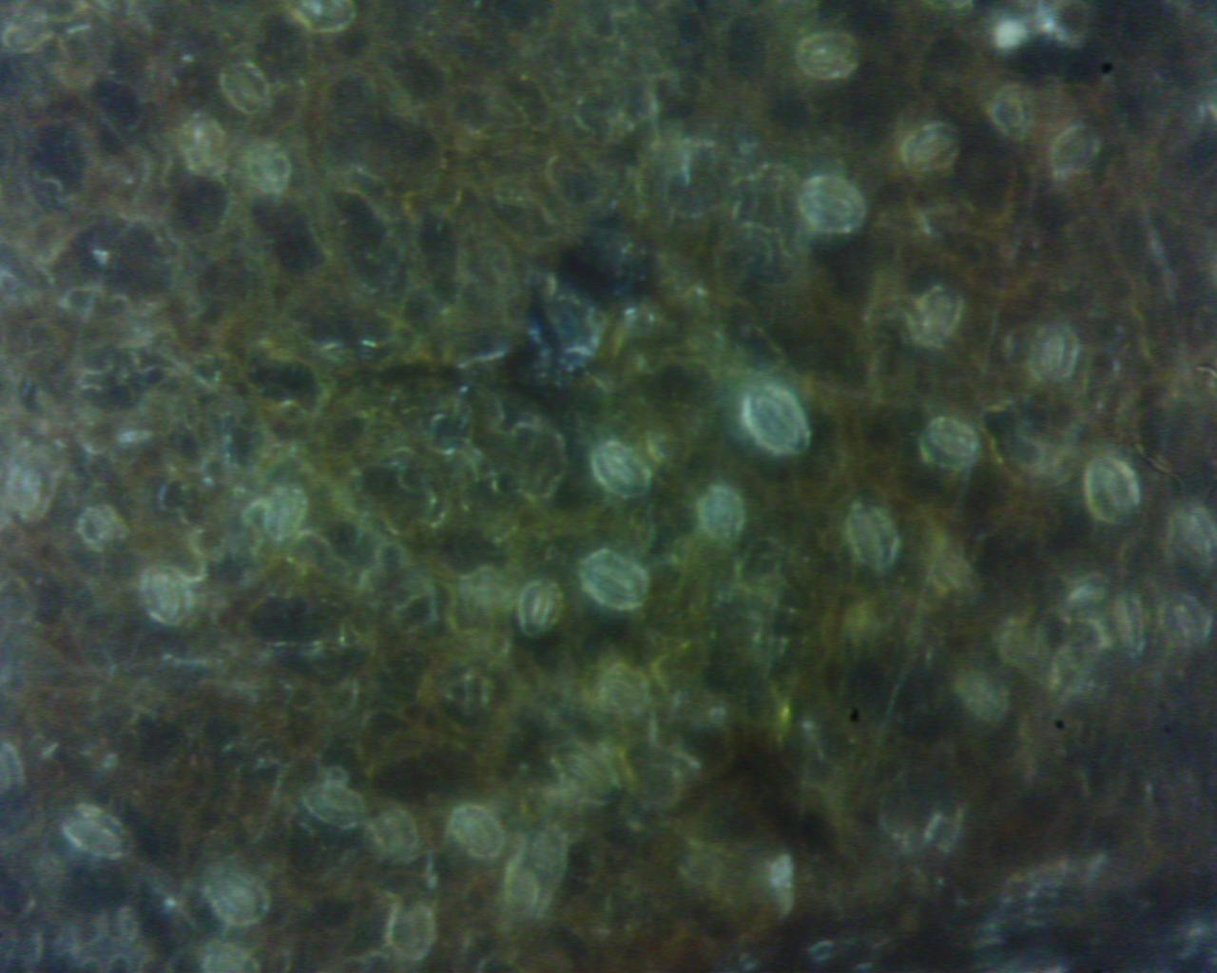stomata: (747, 394, 804, 451), (801, 179, 863, 230), (800, 32, 859, 82), (304, 780, 364, 827), (66, 813, 131, 855), (392, 905, 438, 963), (559, 749, 617, 794), (921, 424, 981, 467), (183, 117, 225, 177), (853, 507, 896, 565), (144, 566, 188, 622), (1031, 325, 1074, 382), (11, 461, 50, 523), (1094, 463, 1135, 521), (588, 561, 643, 603), (700, 490, 743, 543), (1166, 596, 1207, 646), (601, 448, 648, 491), (264, 491, 303, 542), (994, 86, 1032, 138), (915, 295, 956, 341), (523, 583, 560, 633), (908, 132, 960, 167), (1179, 510, 1213, 562), (998, 626, 1047, 662), (1051, 131, 1097, 169), (212, 881, 258, 919), (457, 812, 497, 854), (1066, 579, 1111, 612), (377, 810, 415, 849), (603, 675, 647, 708), (964, 678, 1003, 715), (230, 67, 267, 105), (254, 150, 288, 189), (87, 506, 121, 544)
